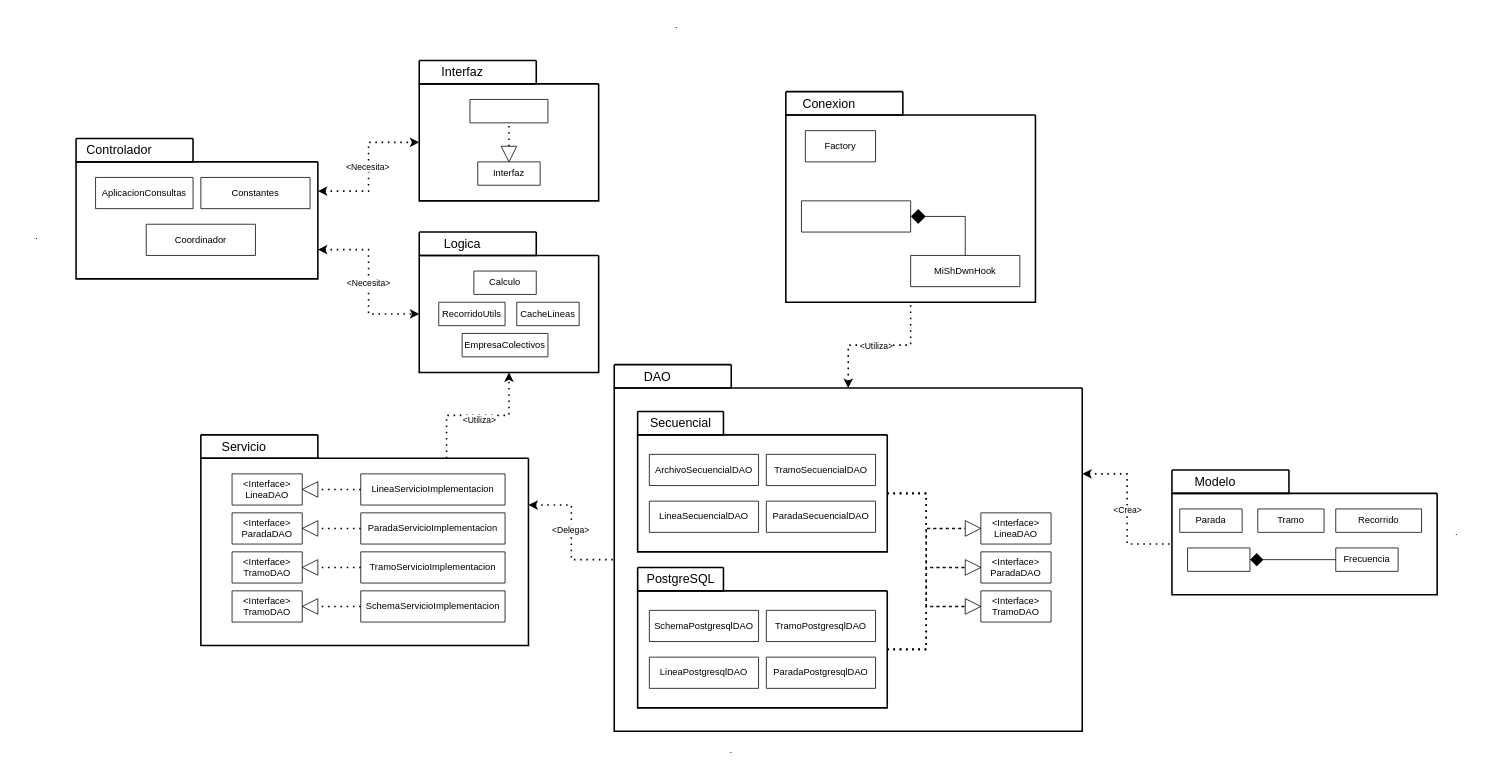
Some shapes in this 1493 by 775 pixel diagram are drawn without their labels. Each missing label, with the centre of its shape:
"<Interface> Mostrable" goes at point (508, 111).
"BDConexion" goes at point (856, 216).
"Linea" goes at point (1218, 559).
